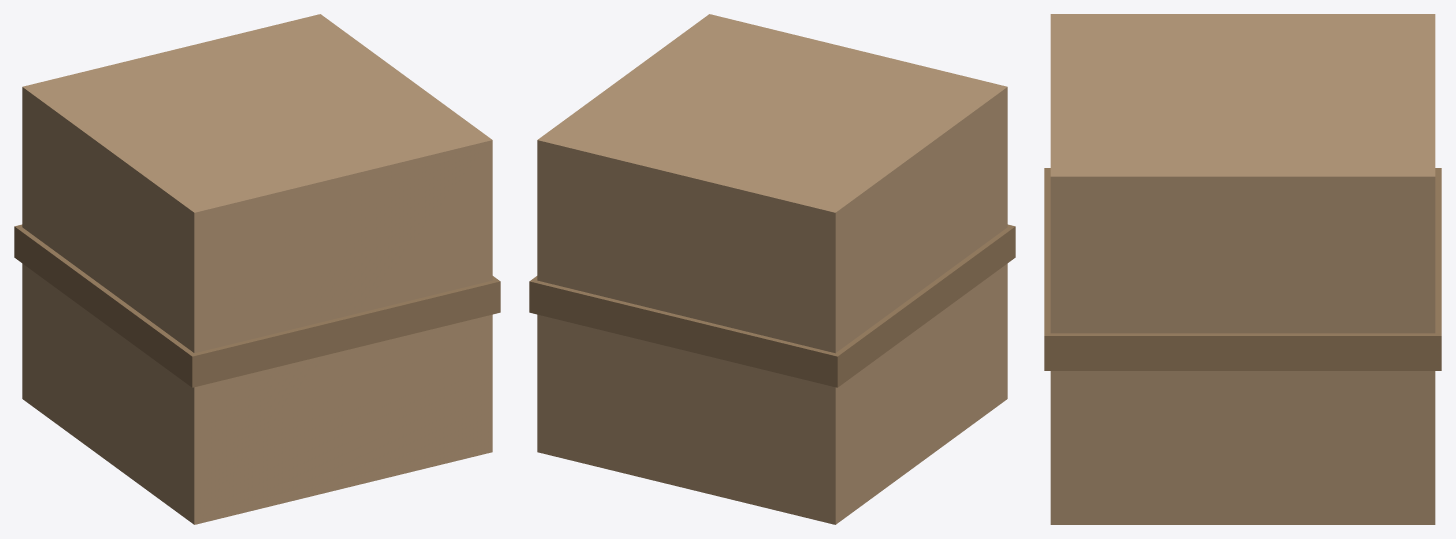
File: Crate.glb
3 views of the same model, side by side, from view 1: azimuth 30°, elevation 25°; view 2: azimuth 150°, elevation 25°; view 3: azimuth 270°, elevation 25° (orthographic). The views are drawn at different scales.
Parts seen in each view (by area): view 1: Crate; view 2: Crate; view 3: Crate.
Boxes of the visible parts, left/top/right/bottom form: Crate: left=14, top=14, right=500, bottom=524; Crate: left=529, top=14, right=1015, bottom=524; Crate: left=1044, top=14, right=1441, bottom=524.
Size of the model in its own units: 0.62 by 0.6 by 0.62.
